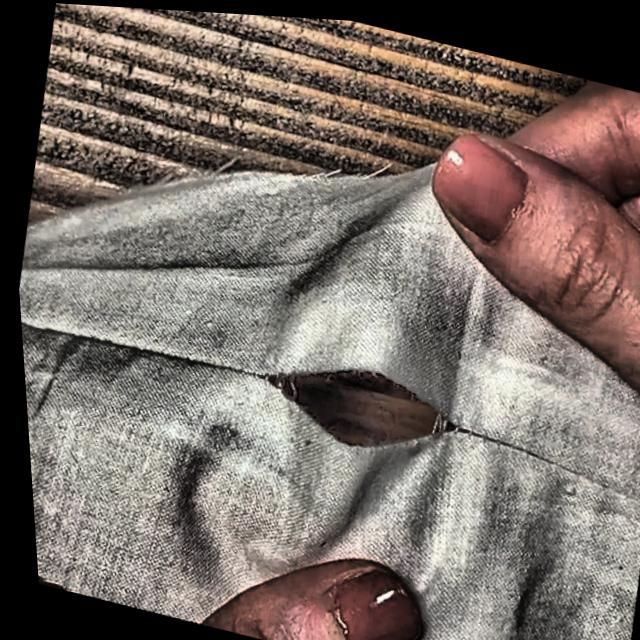seam: (199, 286, 522, 506)
